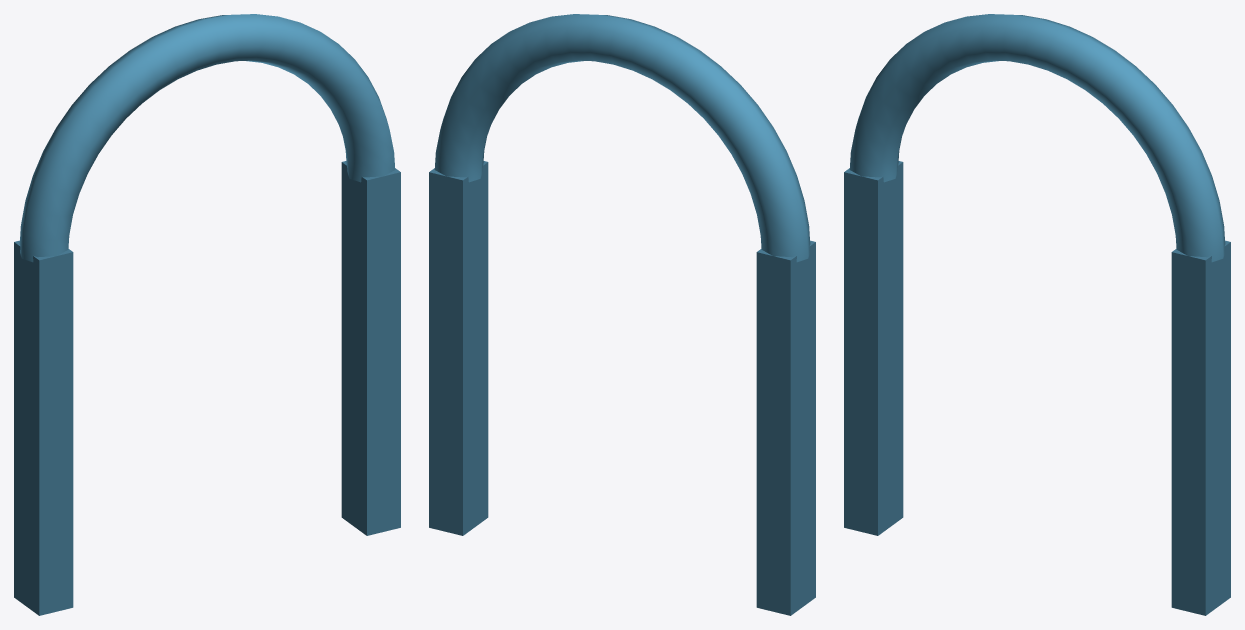
The model's file is wind_rock_arch.glb.
The picture shows the model from 3 angles, left to right: view 1: azimuth 30°, elevation 25°; view 2: azimuth 150°, elevation 25°; view 3: azimuth 330°, elevation 25°; orthographic projection.
Parts seen in each view (by area): view 1: arch, pillar_-135, pillar_135; view 2: arch, pillar_-135, pillar_135; view 3: arch, pillar_135, pillar_-135.
Part boxes in pixels (x1=…): arch: x1=19, y1=14, x2=395, y2=262; pillar_-135: x1=14, y1=240, x2=73, y2=615; pillar_135: x1=341, y1=161, x2=400, y2=535; arch: x1=434, y1=14, x2=810, y2=262; pillar_-135: x1=756, y1=240, x2=815, y2=615; pillar_135: x1=429, y1=161, x2=488, y2=535; arch: x1=849, y1=14, x2=1225, y2=262; pillar_135: x1=1171, y1=240, x2=1230, y2=615; pillar_-135: x1=844, y1=161, x2=903, y2=535.
Size of what is drawn, in the model's own units: 3.06 by 4.28 by 0.36.
